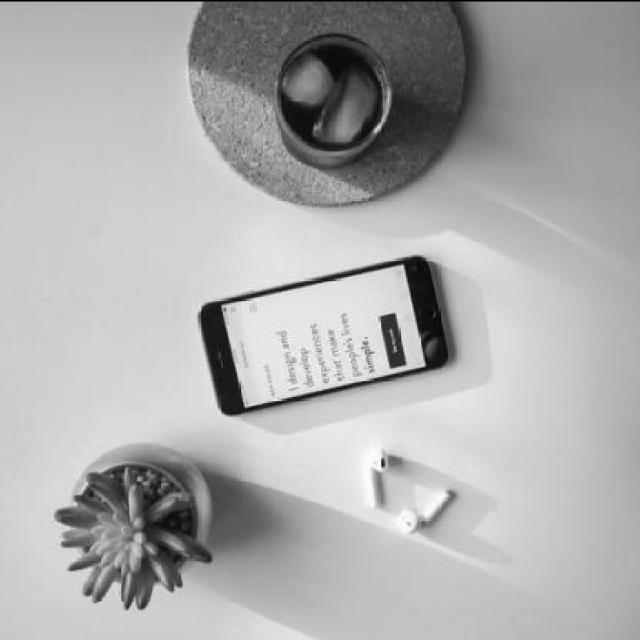fake: (200, 253, 452, 419)
